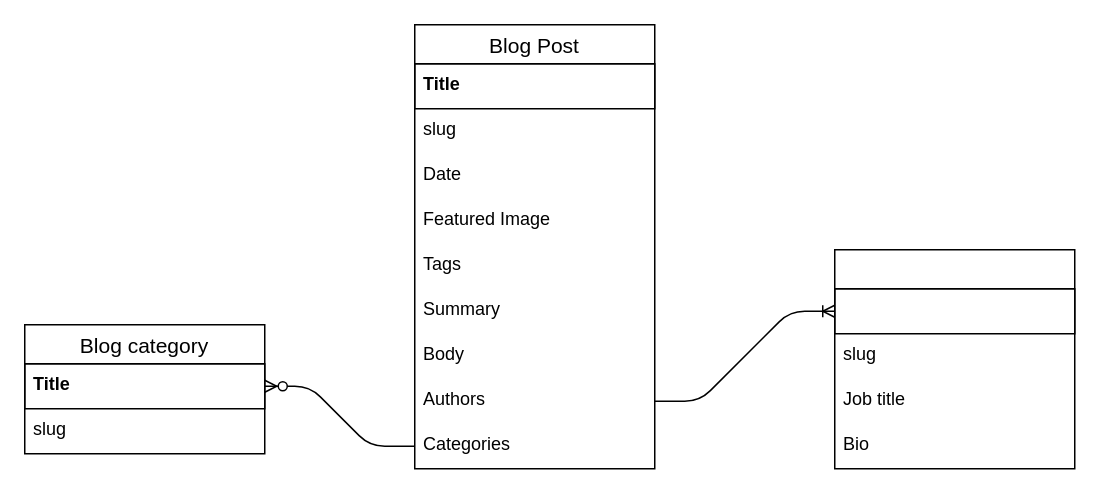
Image size: 1100x494. Some labels were removed from this diagram. The shapes that lost their labels are listed below. From the top down, each one's box as (x1, y1, x2, y2) in pixels, then its label:
(833, 287, 1075, 334): Name
(833, 248, 1075, 469): Author
